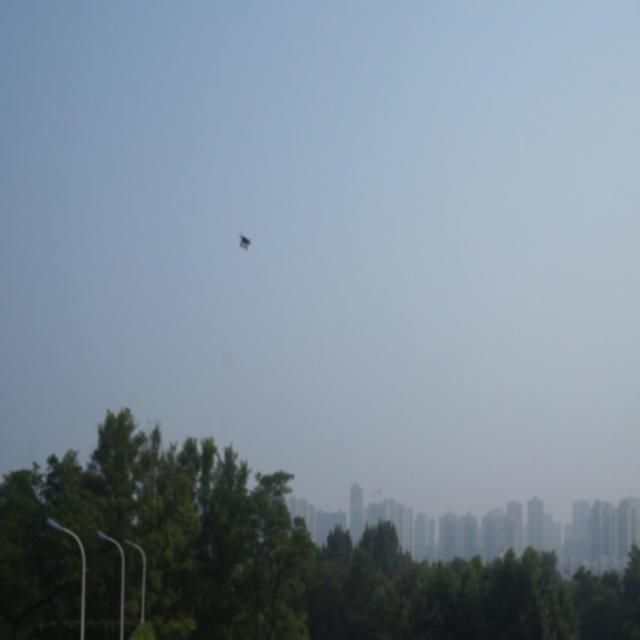UAV: (239, 232, 251, 252)
